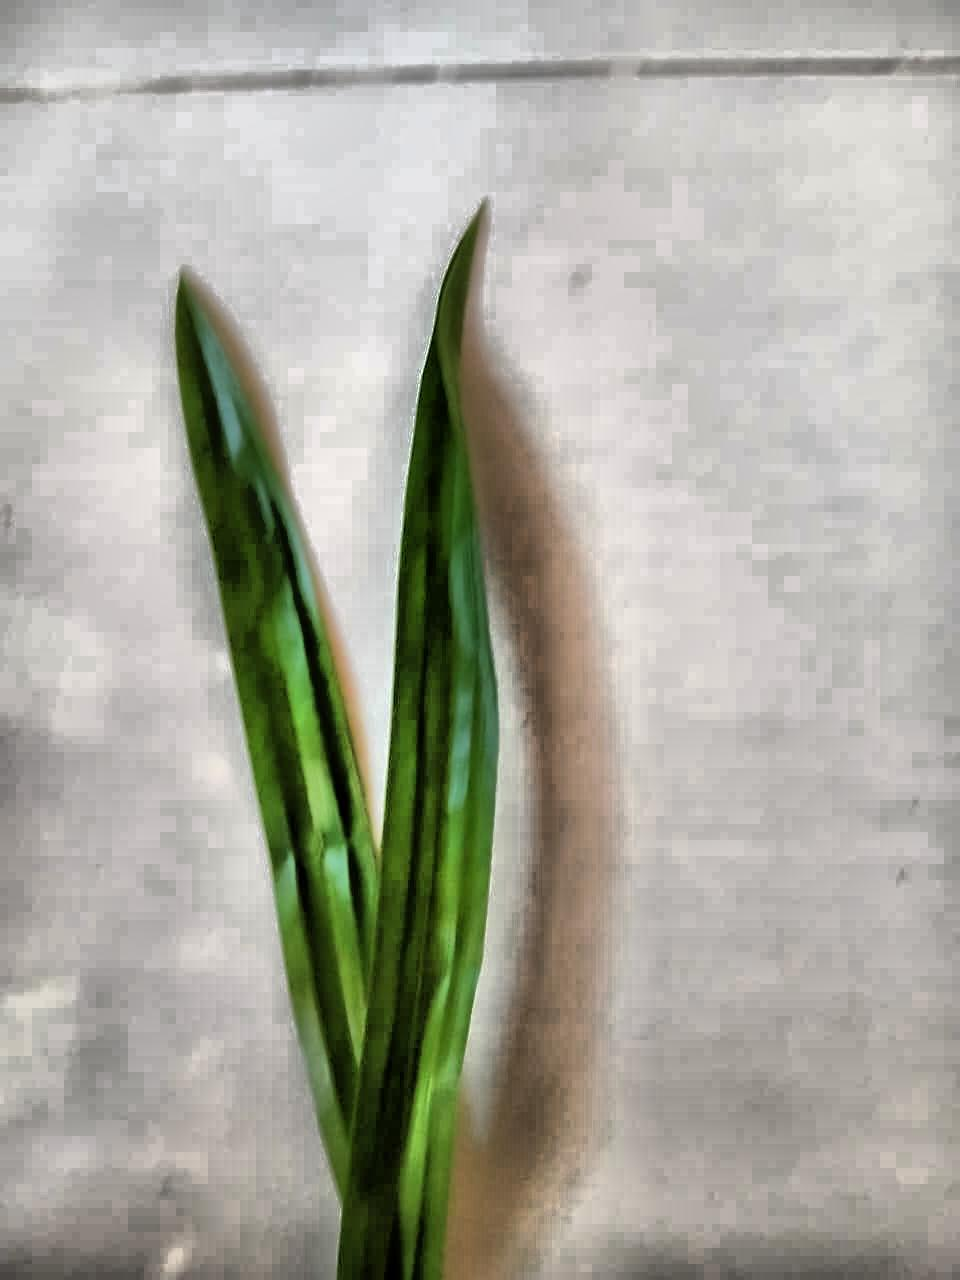daun pandan: (175, 210, 498, 1279), (337, 214, 497, 1279)
